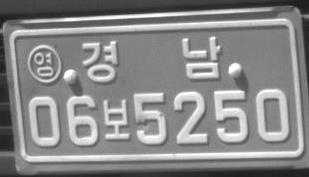0: (255, 87, 290, 143), (27, 95, 62, 148)
2: (173, 90, 209, 145)
5: (213, 89, 249, 144), (132, 91, 168, 145)
6: (65, 93, 98, 146)
경남_D: (80, 35, 222, 83)
보: (102, 98, 130, 141)
영: (26, 43, 62, 84)
